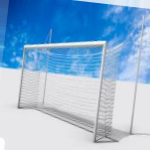goals: (15, 39, 124, 145)
